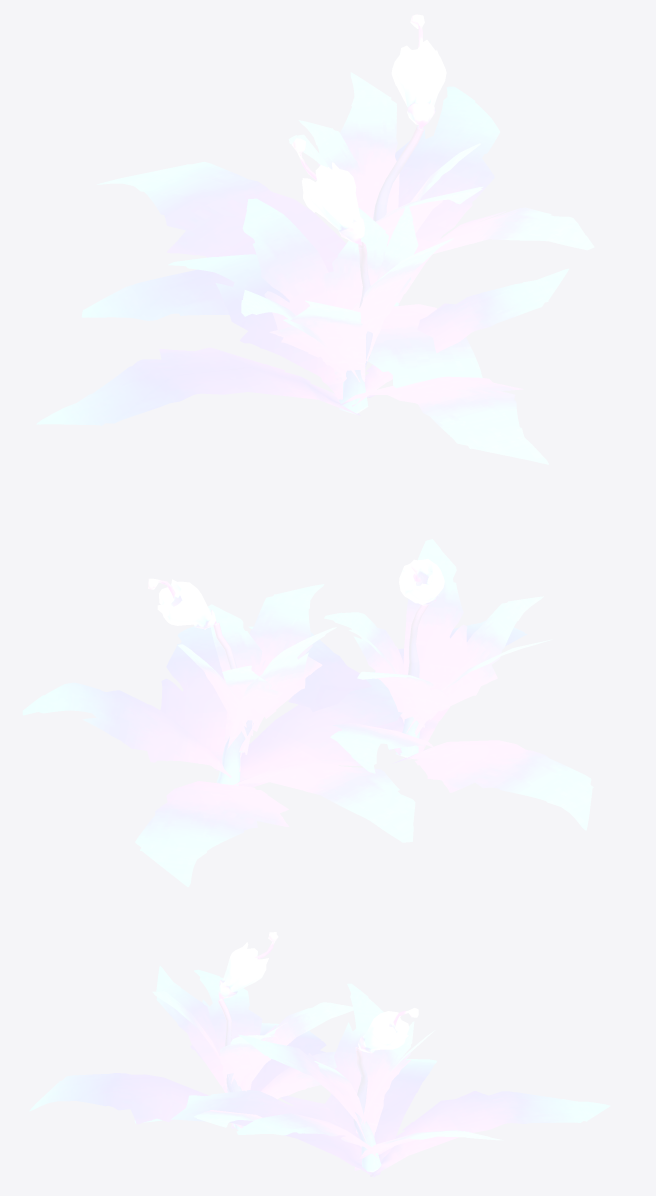
3 views of the same model, one above another, from view 1: azimuth 30°, elevation 25°; view 2: azimuth 150°, elevation 25°; view 3: azimuth 270°, elevation 25° (orthographic). The views are drawn at different scales.
Parts seen in each view (by area): view 1: SM_FH_Fox_Glove_03_LOD0; view 2: SM_FH_Fox_Glove_03_LOD0; view 3: SM_FH_Fox_Glove_03_LOD0.
Part boxes in pixels (x1,y1,x2,y2): SM_FH_Fox_Glove_03_LOD0: (36, 14, 594, 464); SM_FH_Fox_Glove_03_LOD0: (22, 539, 593, 886); SM_FH_Fox_Glove_03_LOD0: (29, 932, 610, 1177).
Bounding box in the file's own units: 0.569 × 0.2358 × 0.7129.
Materials: 1 (1 with a texture image).
